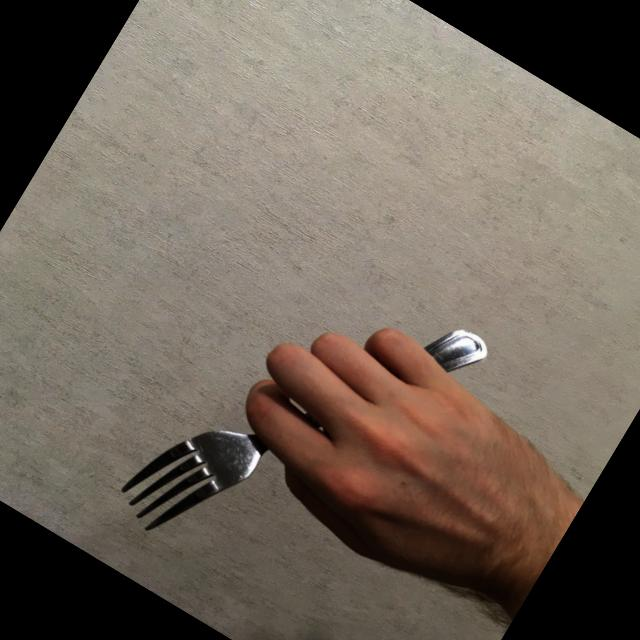fork: (108, 216, 495, 634)
